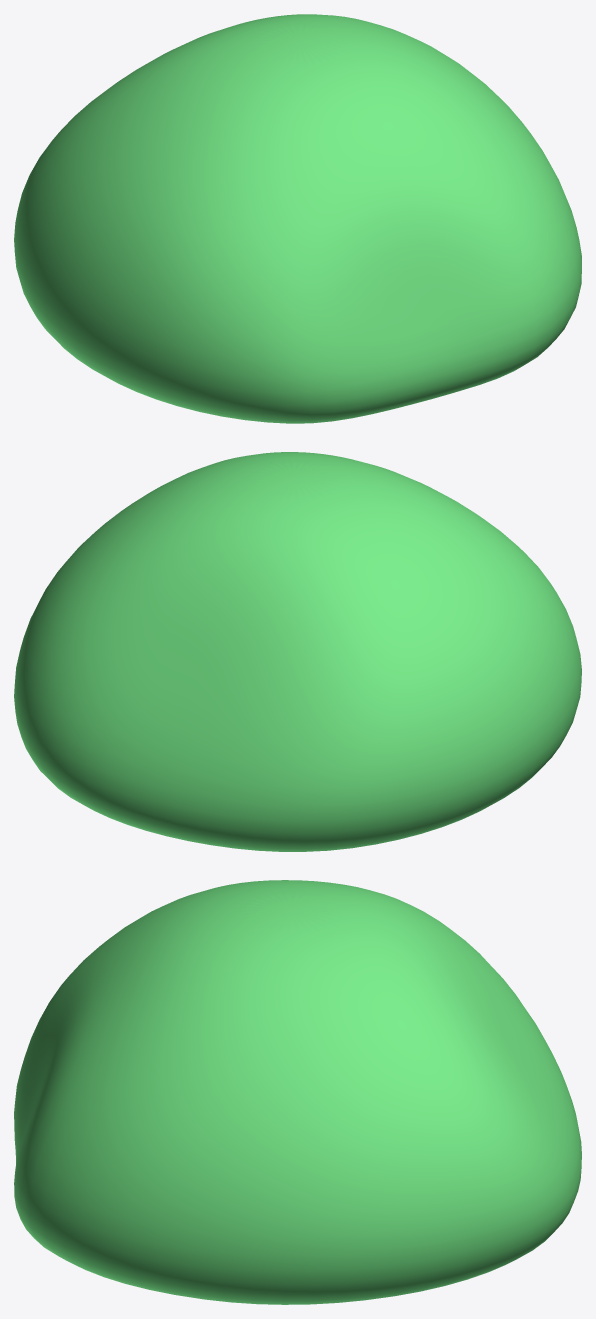
File: slime.fbx
3 renders of one model, top to bottom at view 1: azimuth 30°, elevation 25°; view 2: azimuth 150°, elevation 25°; view 3: azimuth 270°, elevation 25°, orthographic. The views are drawn at different scales.
Parts seen in each view (by area): view 1: outerShell; view 2: outerShell; view 3: outerShell.
Part boxes in pixels (x1,y1,x2,y2): outerShell: (14, 14, 581, 423); outerShell: (14, 452, 581, 851); outerShell: (14, 880, 581, 1304).
Bounding box in the file's own units: 158 × 89.31 × 152.
